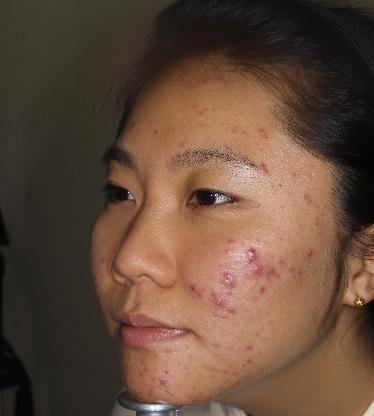Papules: (216, 268, 243, 291), (301, 245, 319, 260), (212, 295, 227, 310), (262, 263, 276, 279), (250, 263, 265, 277), (157, 373, 170, 389), (243, 245, 259, 257), (255, 284, 268, 298), (221, 246, 236, 258), (186, 282, 199, 295), (225, 235, 239, 247), (295, 266, 306, 279), (243, 342, 256, 353)
